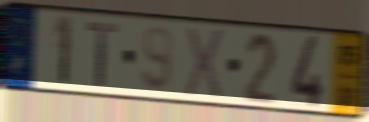1: (53, 14, 74, 89)
2: (242, 31, 280, 107)
4: (289, 32, 326, 111)
9: (140, 24, 176, 94)
T: (85, 20, 119, 89)
X: (183, 25, 227, 103)
